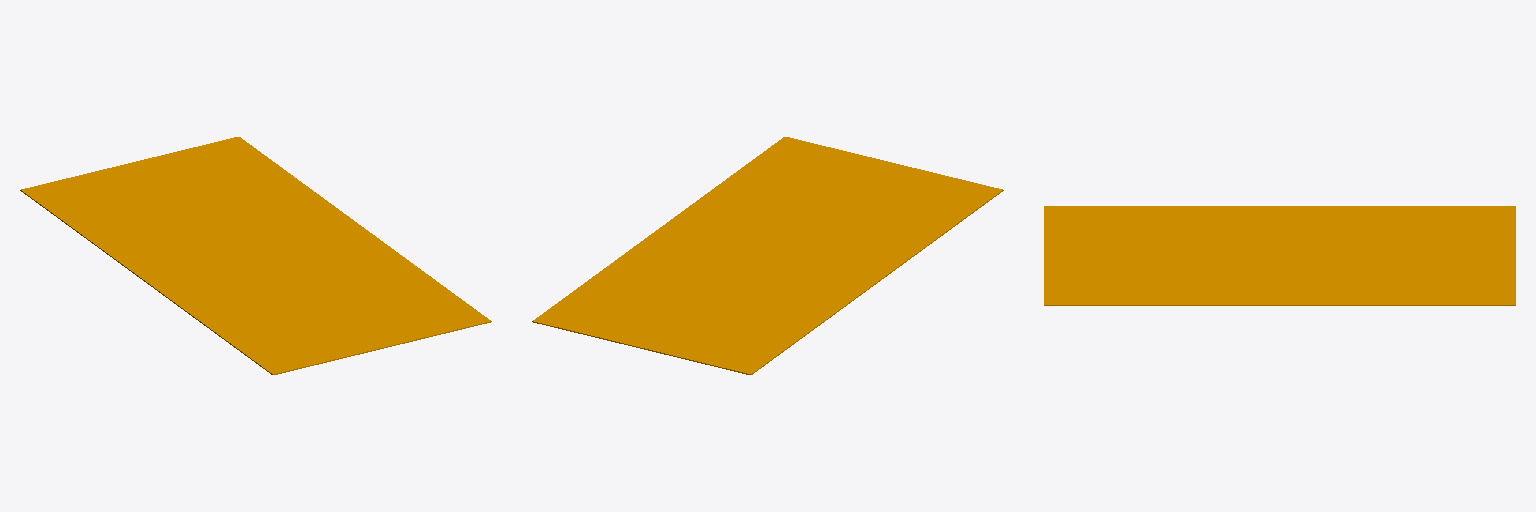
robot.urdf — ramp:
<?xml version="1.0"?>
<robot name="ramp">
    <!-- Colors-->
    <material name="grey">
        <color rgba="0.5, 0.5, 0.5, 1.0"/>
    </material>

    <!-- Ramp-->
    <link name="base_link">
        <visual> 
            <geometry> 
                <box size="2 4 0.01"/>
                <origin rpy="0 1 0" xyz="-1 -1 -0.005"/>
            </geometry>
            <material name="grey"/>
        </visual>
        <collision> 
             <geometry> 
                <box size="2 4 0.01"/>
                <origin rpy="0 1 0" xyz="-1 -1 -0.005"/>
            </geometry>           
        </collision> 
        <inertial> 
            <mass value="0"/>
            <inertia ixx="0" ixy="0" ixz="0" iyy="0" iyz="0" izz="0"/>
        </inertial> 
        <contact> 
            <lateral_friction value="0.5"/>
        </contact>
    </link>
</robot>

--- Render facts (derived) ---
3 views of the same robot in one strip: view 1: azimuth 30°, elevation 25°; view 2: azimuth 150°, elevation 25°; view 3: azimuth 270°, elevation 25° (orthographic).
Robot: ramp — 1 links, 0 joints (none); root link base_link; default pose: every joint at zero.
Visible links, largest first — view 1: base_link; view 2: base_link; view 3: base_link.
Link boxes in pixels (x1,y1,x2,y2): base_link: (20,137,491,374); base_link: (532,137,1003,374); base_link: (1044,206,1515,305).
Size in the robot's own frame: 2 by 4 by 0.01 metres.
Geometry: primitives only (box / cylinder / sphere), no mesh files.
